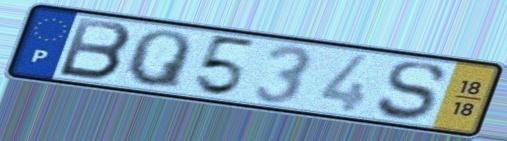3: (251, 41, 319, 109)
4: (315, 52, 374, 116)
5: (189, 34, 262, 98)
B: (54, 15, 134, 83)
Q: (122, 28, 195, 93)
S: (374, 60, 449, 122)
